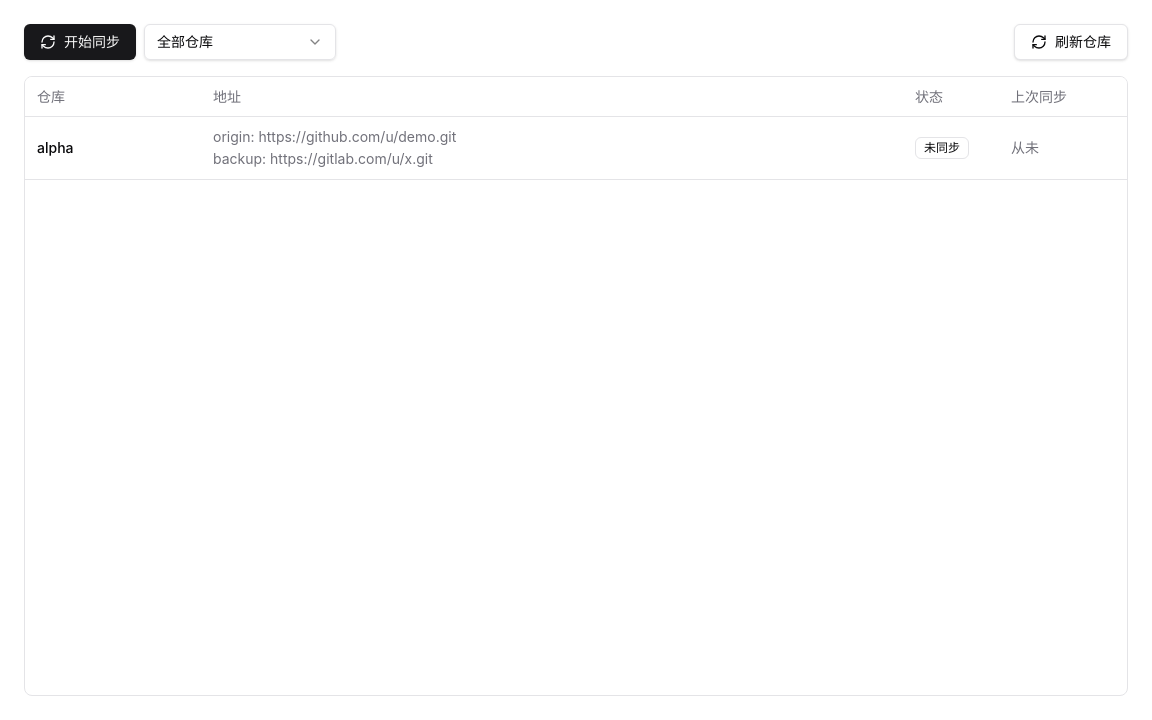
Test: 双击表格行打开只读详情弹窗，关闭后消失
Double-click the text "alpha": [113, 148] box x1=25 y1=117 x2=201 y2=180
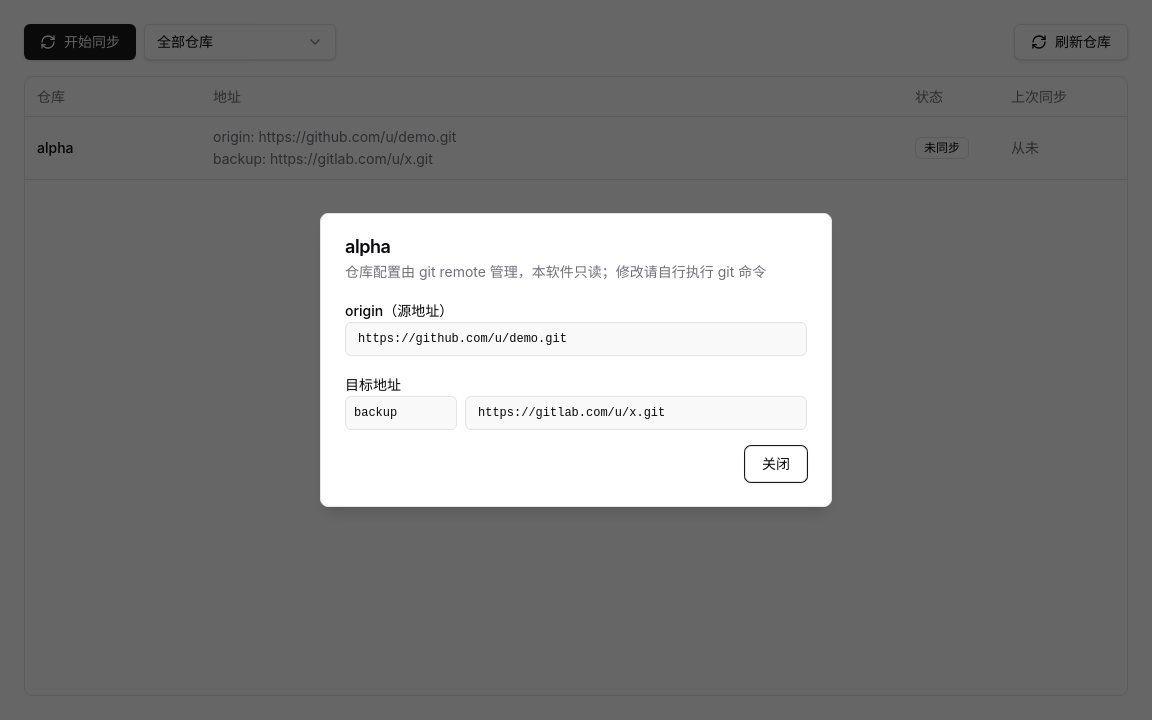
Now the text "https://github.com/u/demo.git" is shown, box x1=345 y1=322 x2=807 y2=356
Now the text "https://gitlab.com/u/x.git" is shown, box x1=465 y1=396 x2=807 y2=430
Note:  关闭后弹窗消失
Click the button "关闭": [776, 464] box x1=745 y1=446 x2=807 y2=482
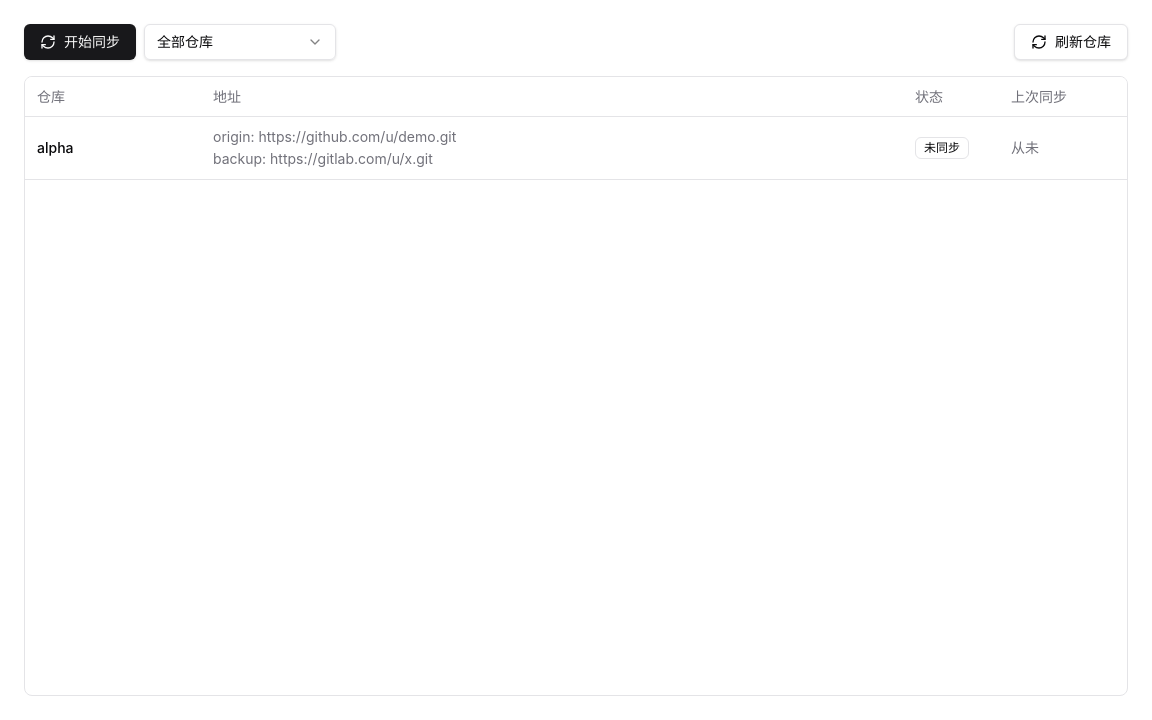
Now the dialog is gone
